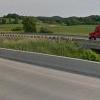Tree: (19, 13, 38, 35)
